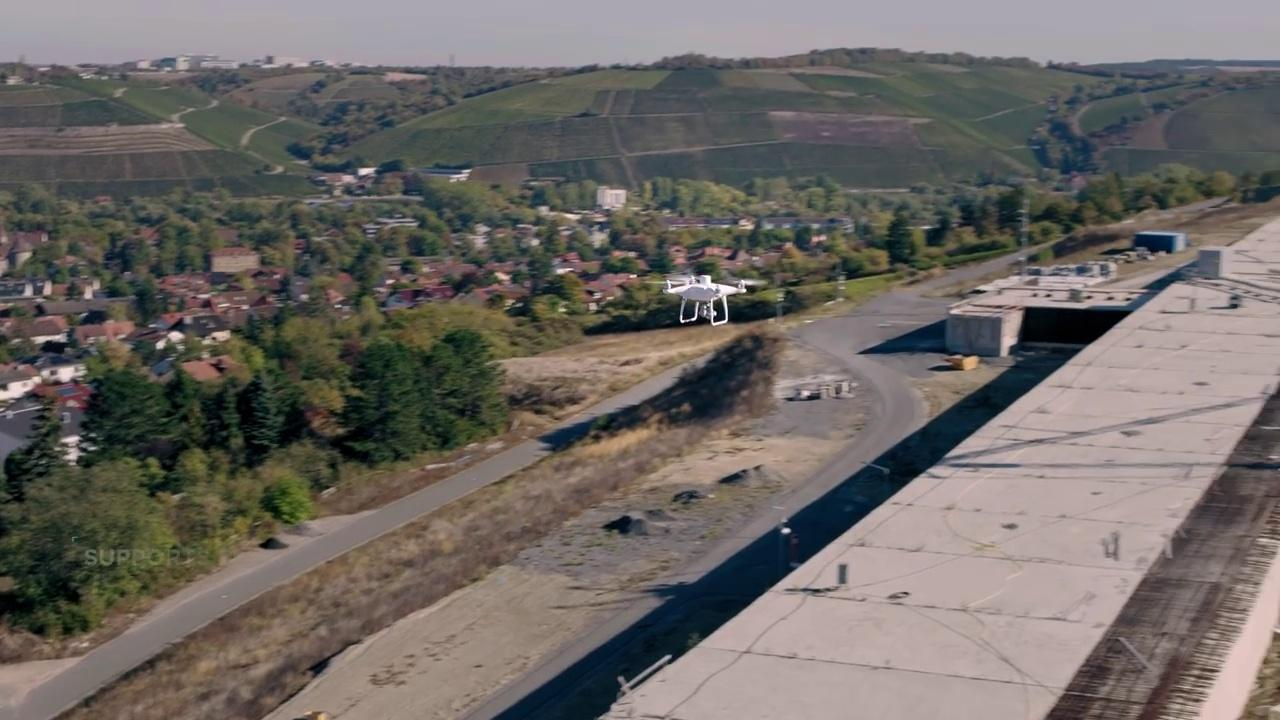drone: (641, 268, 769, 331)
